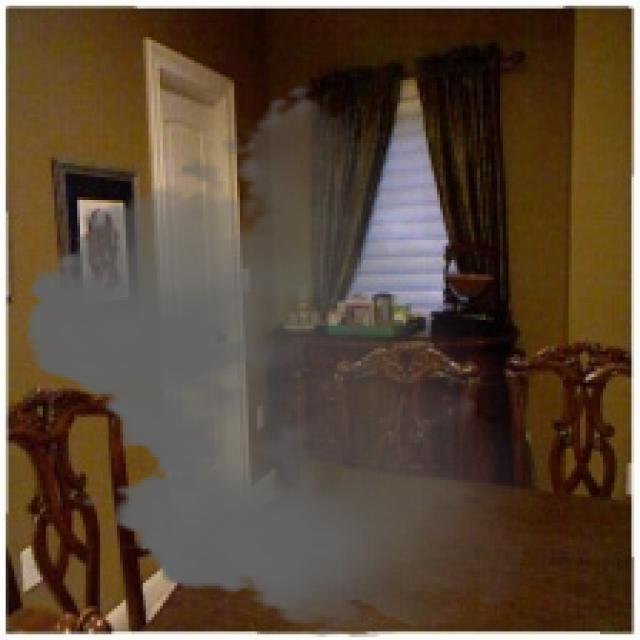Smoke: (6, 82, 563, 638)
